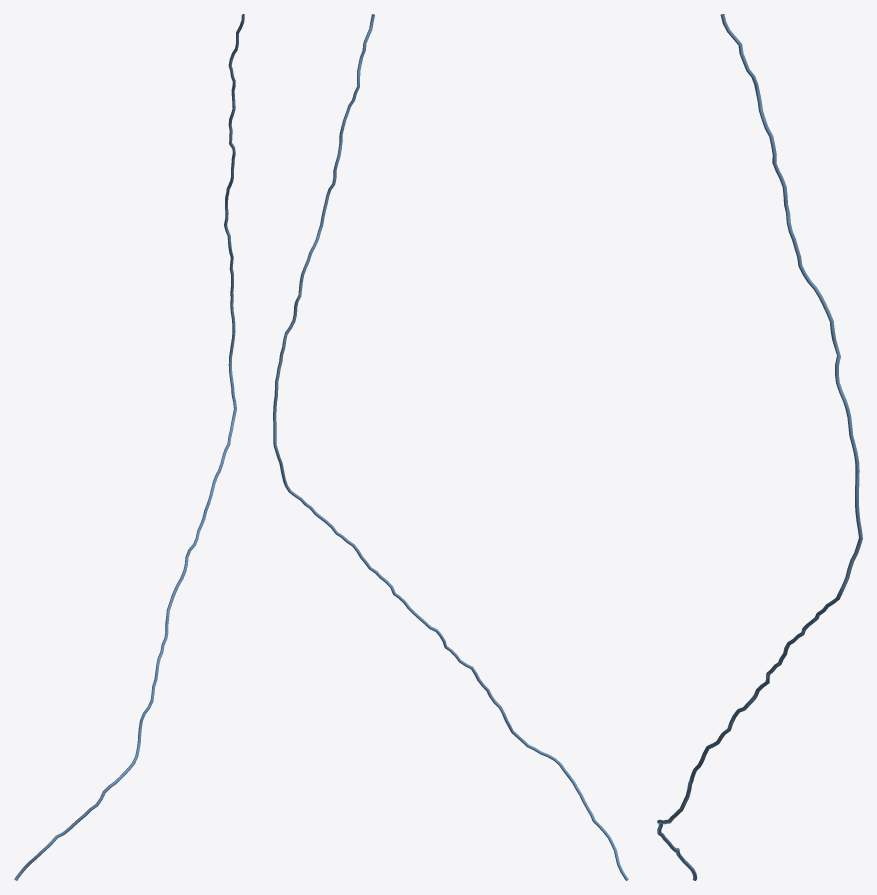
File: sweep109.fbx
3 views of the same model, side by side, from view 1: azimuth 30°, elevation 25°; view 2: azimuth 150°, elevation 25°; view 3: azimuth 270°, elevation 25° (orthographic). The views are drawn at different scales.
Visible parts, largest first — view 1: sweep109; view 2: sweep109; view 3: sweep109.
Part boxes in pixels (box(x1,y1,x2,y2)): sweep109: box(14, 14, 244, 880); sweep109: box(273, 14, 628, 880); sweep109: box(657, 14, 862, 880).
Size of the model in its own units: 2.01 by 5.39 by 0.9917.
